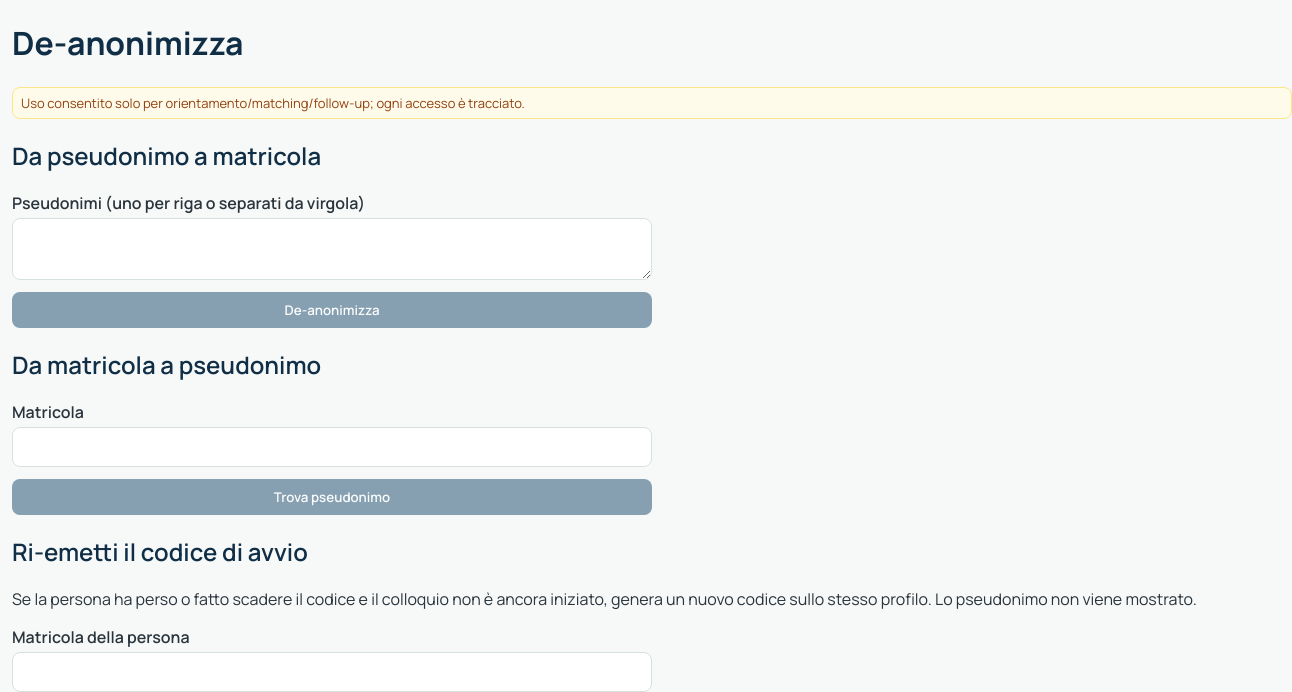
Test case: a forbidden result on pseudonym resolution shows the permissions message
This screenshot has width=1292, height=692.
Type "P-4F2A" into the text box labelled "Pseudonimi (uno per riga o separati da virgola)" at (332, 249), box [12,218,652,280]
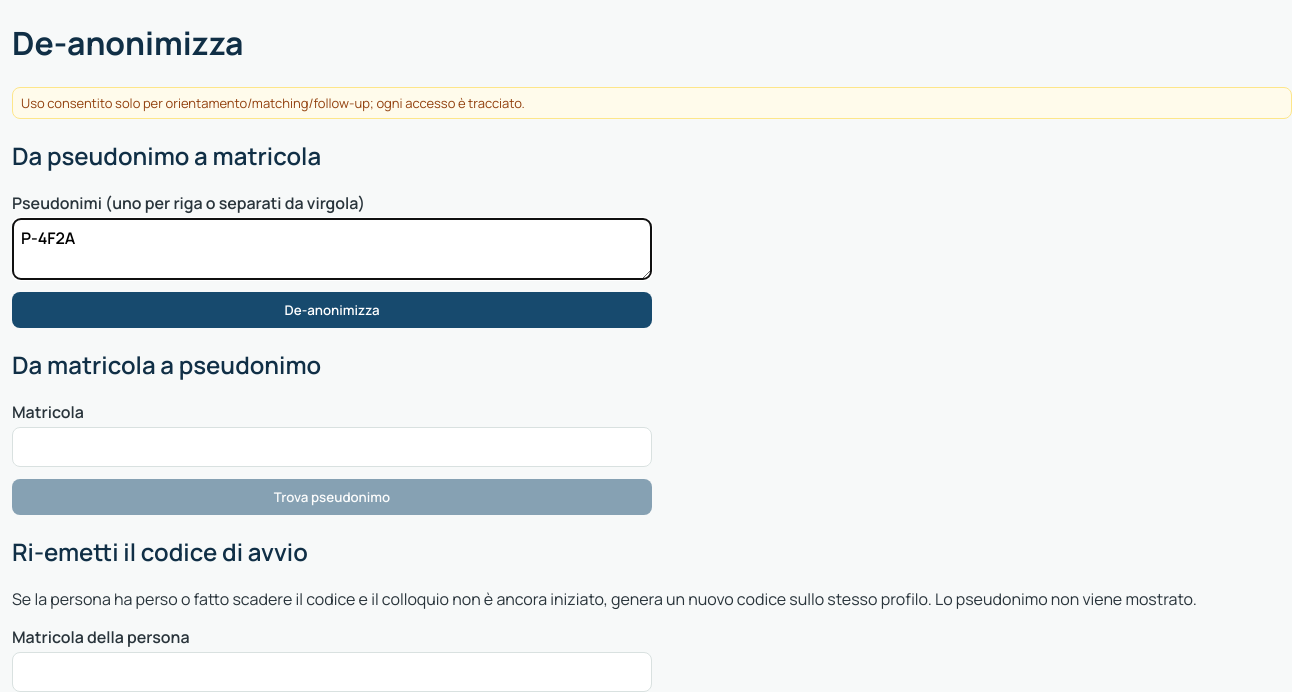
Click the button "De-anonimizza" at (332, 310), box [12,292,652,328]
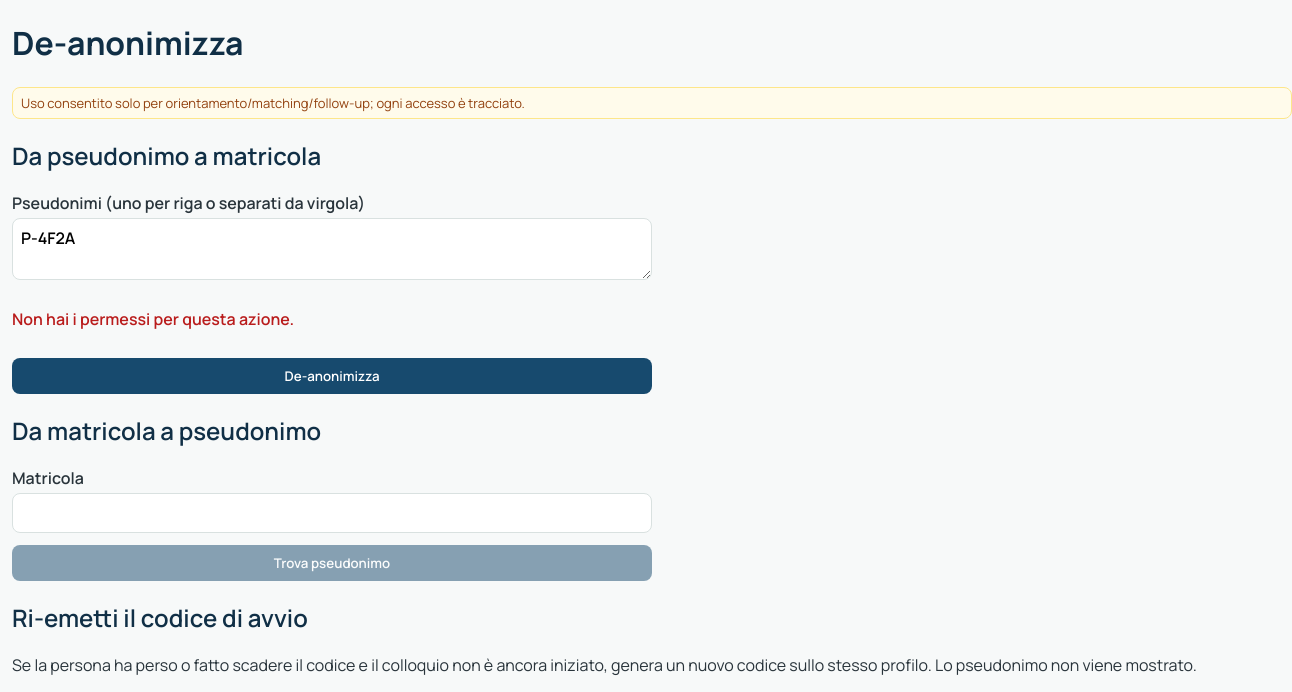
Now the text "Non hai i permessi per questa azione." is shown, box [12,308,294,330]
